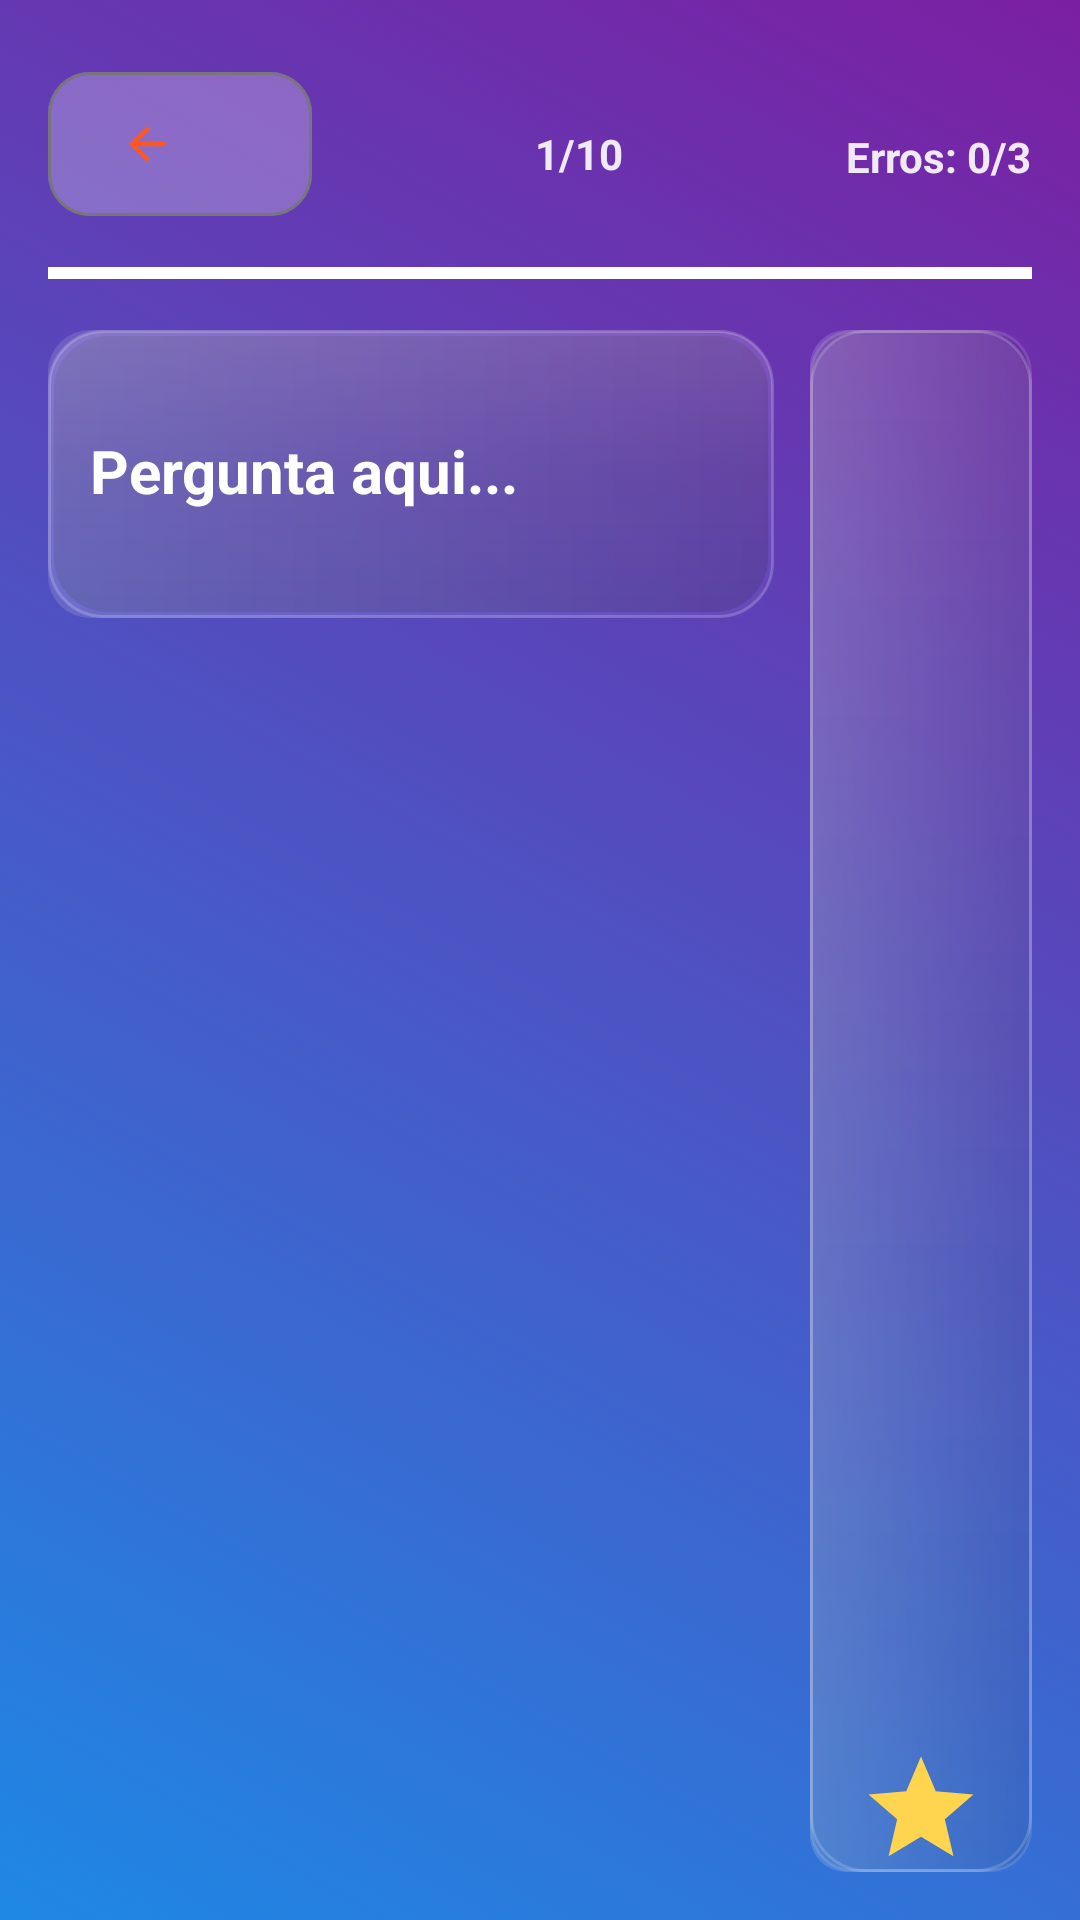

Icon bounding boxes for this 1080 x 1920 phone screenshot, format (left=x1, top=y1, right=x2, bottom=y2):
arrow back: (left=48, top=72, right=312, bottom=216)
Estrela: (left=869, top=1757, right=973, bottom=1856)
